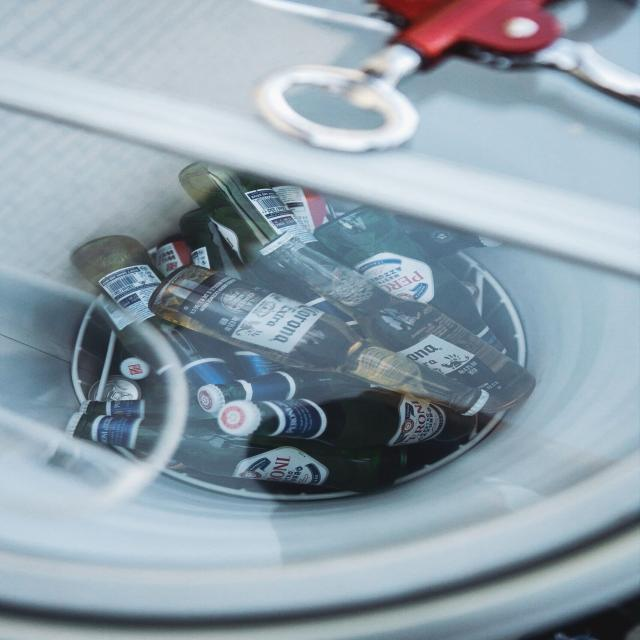Bottle: (150, 265, 502, 414), (263, 235, 535, 412), (179, 163, 356, 324), (315, 207, 504, 352), (218, 389, 477, 448), (179, 162, 317, 264), (173, 435, 405, 492), (72, 236, 163, 346), (198, 370, 367, 414), (161, 323, 235, 390), (399, 216, 500, 258), (180, 209, 242, 277), (66, 412, 162, 452), (272, 183, 332, 232), (80, 399, 162, 423), (153, 234, 191, 276), (80, 399, 145, 418), (234, 351, 281, 377)
